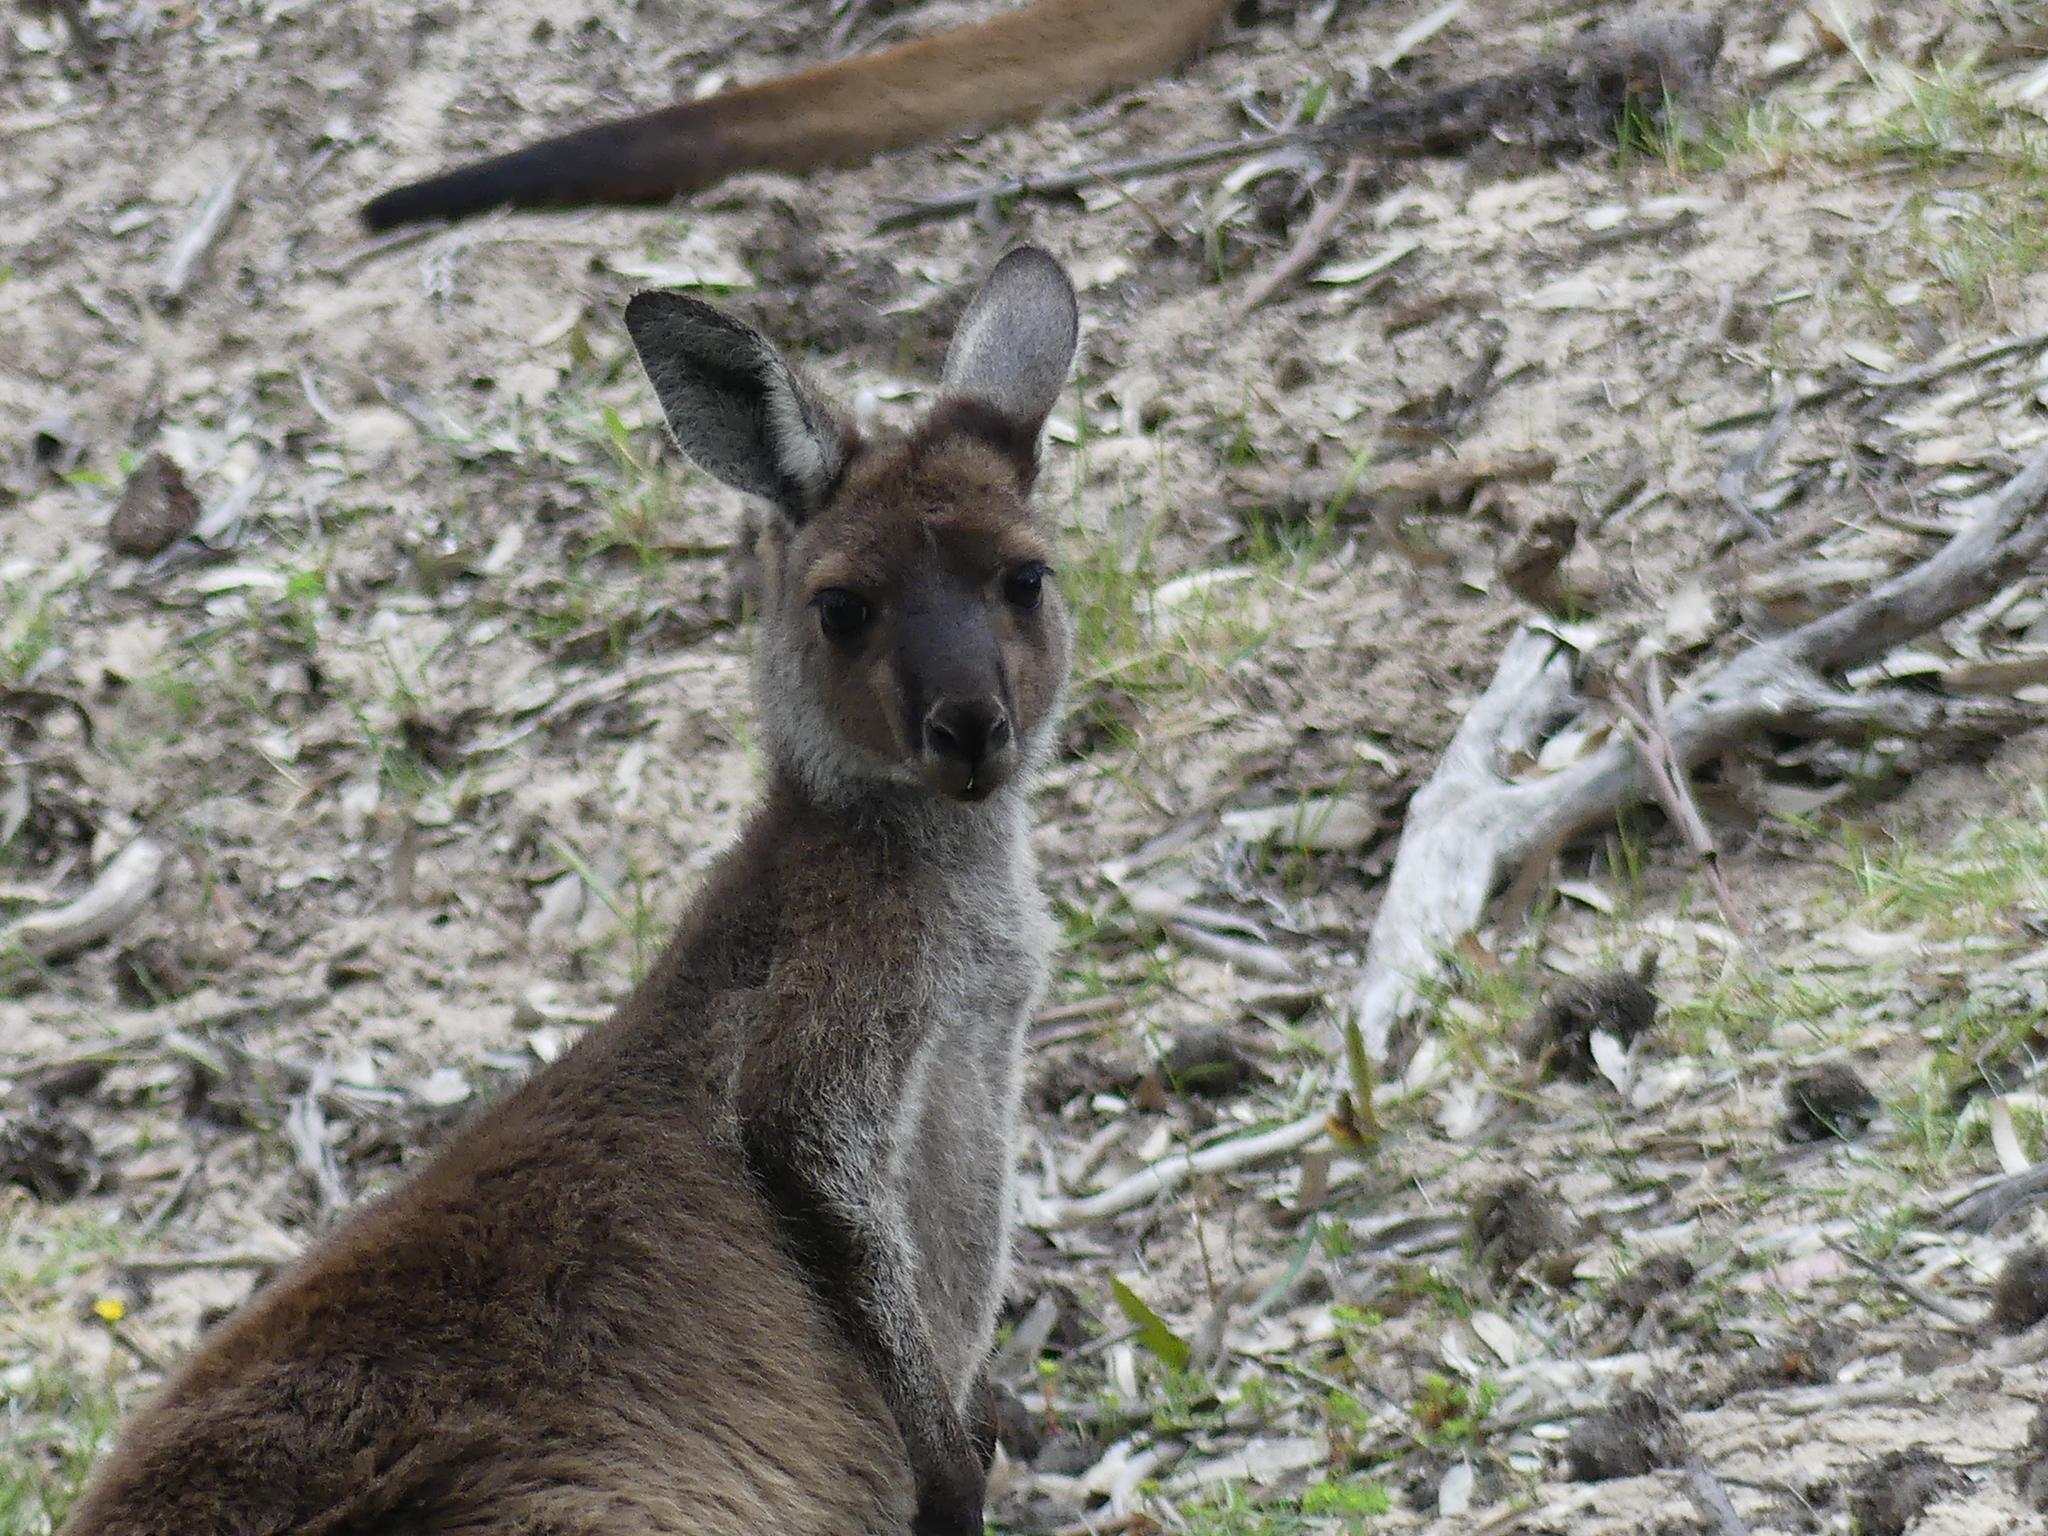Western grey kangaroo: (53, 242, 1090, 1536)
